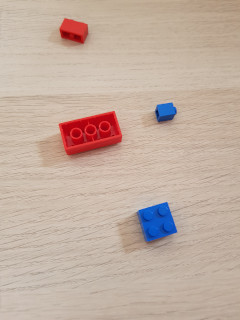1x1 blue: (154, 99, 179, 124)
1x2 red: (60, 18, 89, 45)
2x2 blue: (138, 202, 177, 243)
2x4 red: (58, 110, 123, 155)
